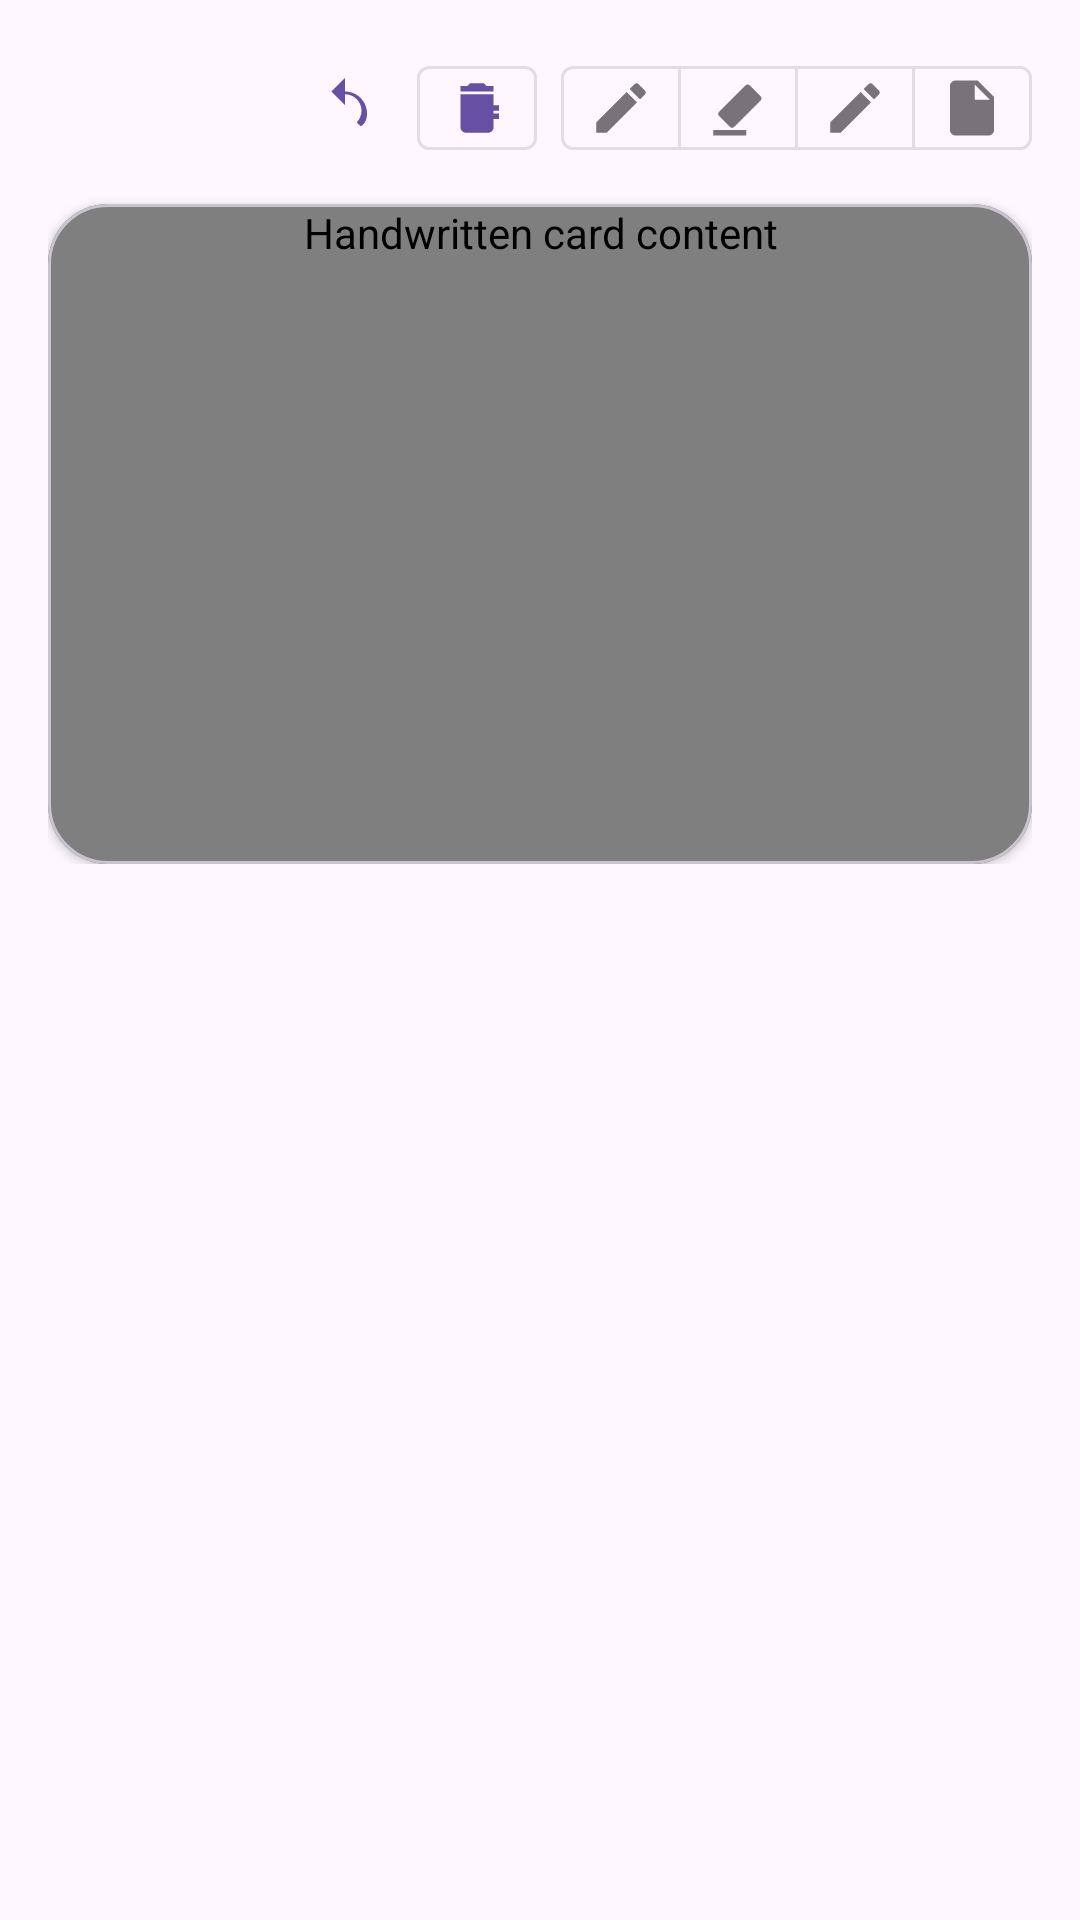

Icons on this 1080px×1920px Android screen, each with its box as (x1, y1, x2, y2):
Canvas options: (950, 80, 994, 136)
Clear all: (417, 66, 537, 150)
Eraser options: (678, 66, 798, 150)
Pen options: (561, 66, 681, 150)
Undo: (331, 78, 367, 126)
